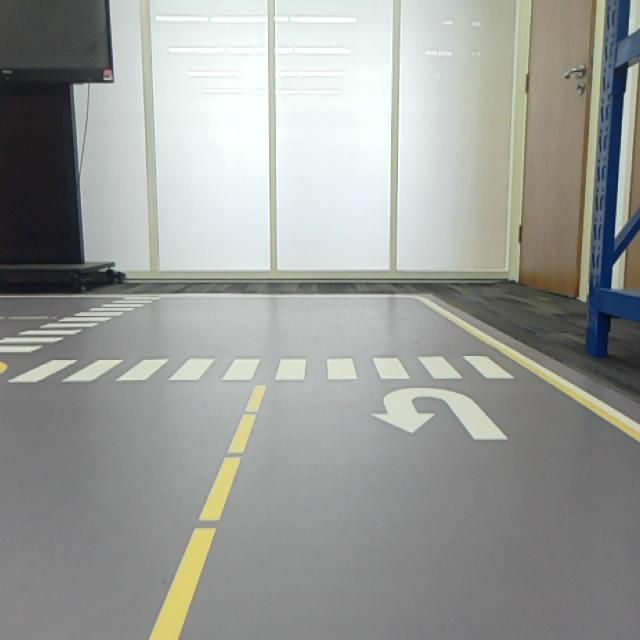left_lane: (150, 383, 267, 640)
right_lane: (420, 295, 640, 443)
